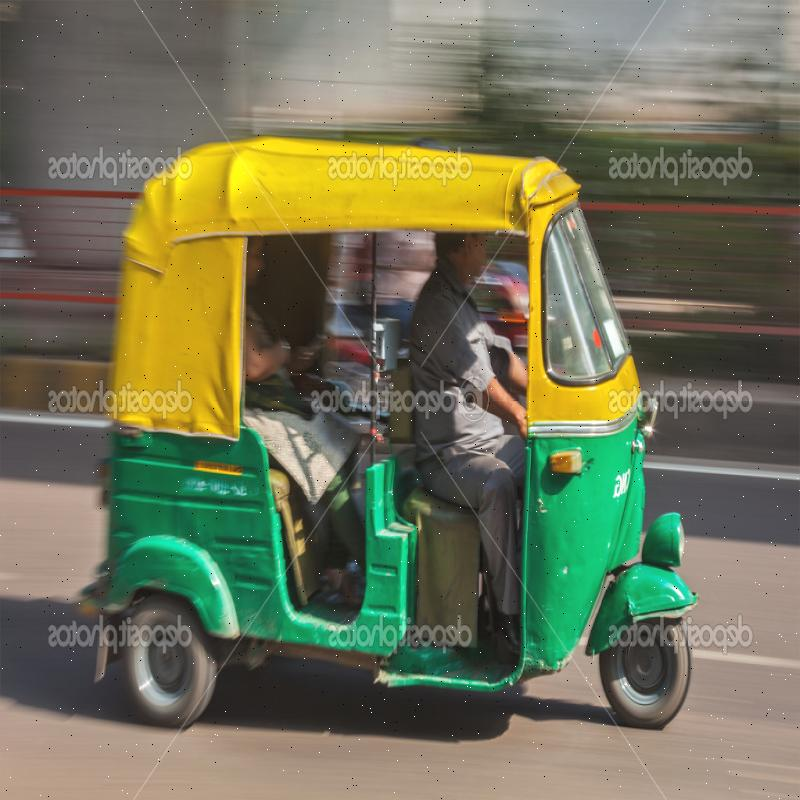auto: (94, 139, 693, 738)
